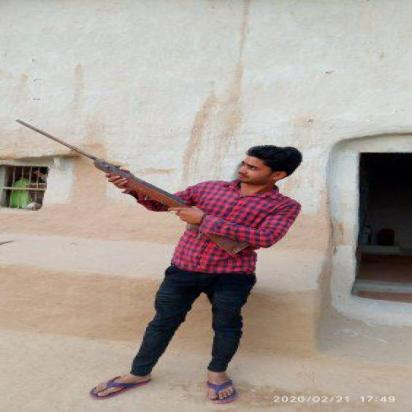Gun: (12, 116, 253, 257)
